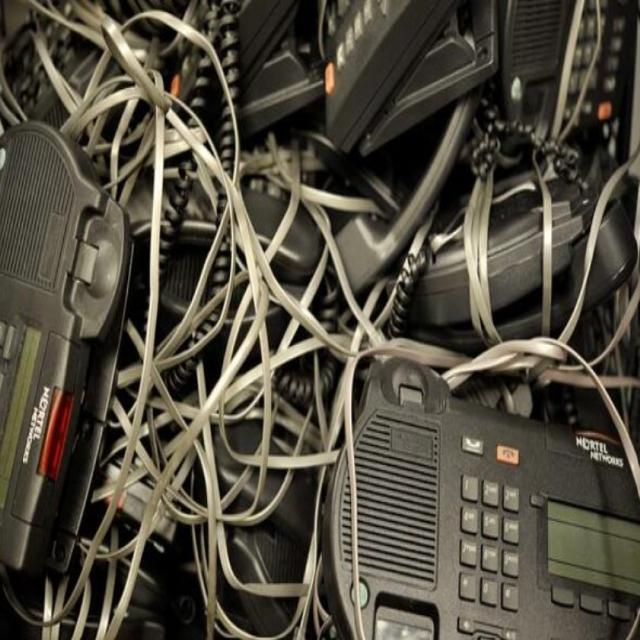electronic: (1, 0, 639, 639), (317, 321, 640, 639), (0, 93, 177, 640), (264, 0, 580, 220)
